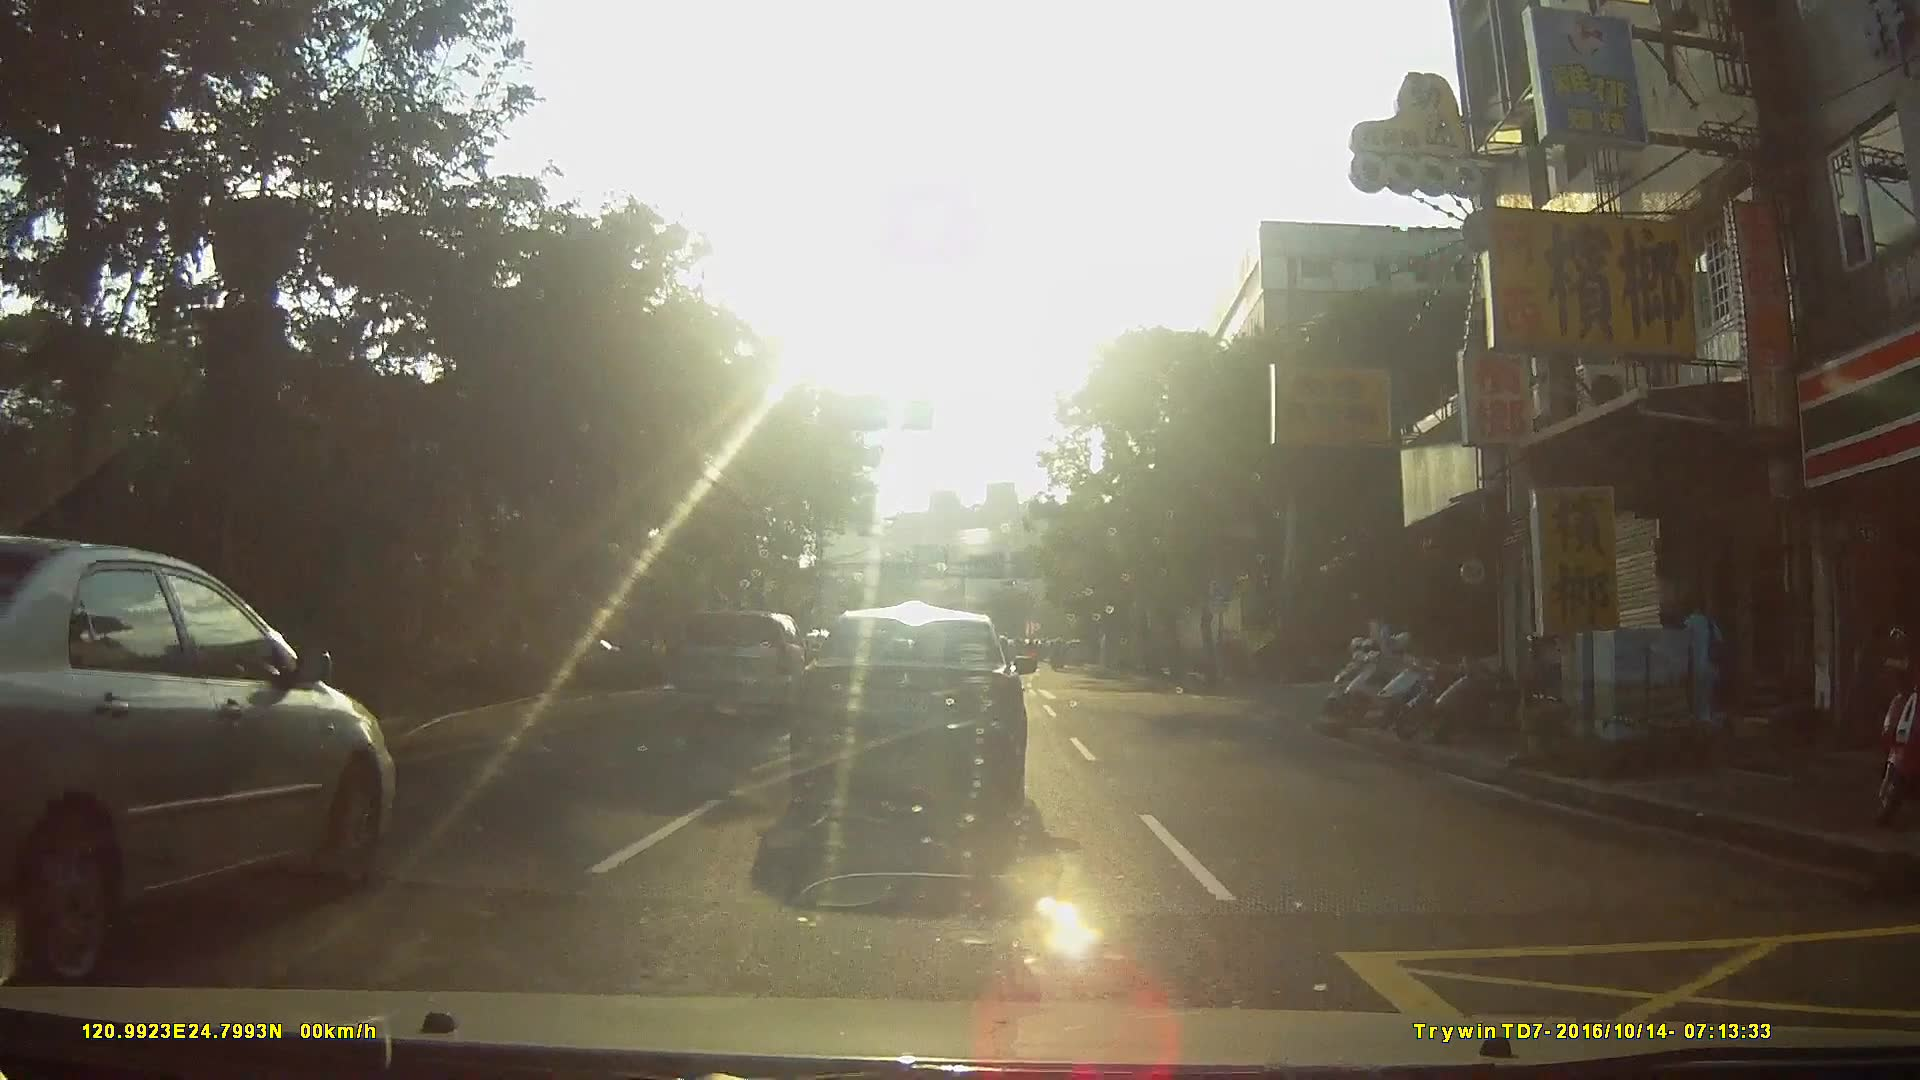pedestrian: (1666, 587, 1733, 740)
vehicle: (1, 528, 411, 973), (800, 599, 1055, 821), (675, 608, 817, 724)
